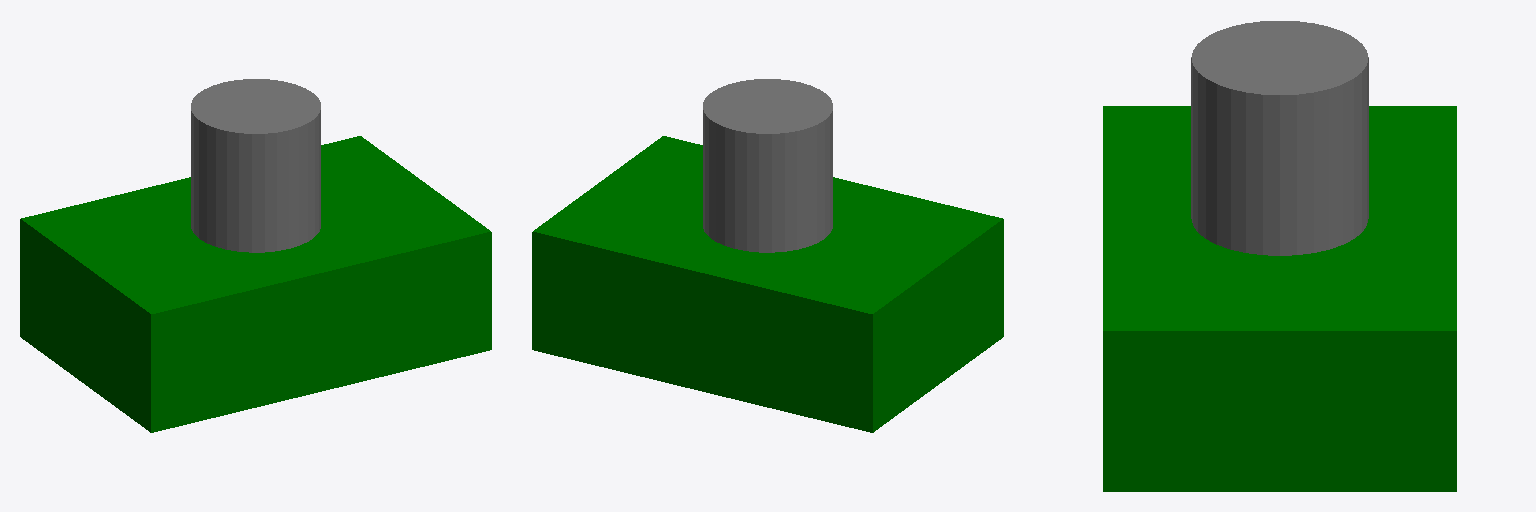
URDF robot description (base_test):
<?xml version="1.0"?>
<robot name="base_test">
    <material name="red">
        <color rgba="0.5 0 0 1"/>
    </material>
    <material name="green">
        <color rgba="0 0.5 0 1"/>
    </material>
    <material name="blue">
        <color rgba="0 0 0.5 1"/>
    </material>
    <material name="grey">
        <color rgba="0.5 0.5 0.5 1"/>
    </material>
 
    <link name="base_link">
        <visual>
            <geometry>
                <box size="0.6 0.4 0.2"/>  <!-- xyz -->
            </geometry>
            <origin xyz="0 0 0.1" rpy="0 0 0"/>
            <material name="green"/>
        </visual>
    </link>

    <link name="second_link">
        <visual>
            <geometry>
                <cylinder radius="0.1" length="0.2"/>
            </geometry>
            <origin xyz="0 0 0.1" rpy="0 0 0"/>
            <material name="grey"/>
        </visual>
    </link>

    <joint name="base_second_joint" type="revolute">
        <parent link="base_link"/>
        <child link="second_link"/>
        <origin xyz="0 0 0.2" rpy="0 0 0"/>
        <axis xyz="0 0 1"/>
        <limit lower="-1.57" upper="1.57" velocity="100" effort="100"/>
    </joint>
</robot>

--- Facts derived from the render (not from the file) ---
Views: 3 orthographic renders of the robot side by side, from view 1: azimuth 30°, elevation 25°; view 2: azimuth 150°, elevation 25°; view 3: azimuth 270°, elevation 25°.
Robot: base_test — 2 links, 1 joints (1 revolute); root link base_link; default pose: all joints at 0.
Links seen in each view (by area): view 1: base_link, second_link; view 2: base_link, second_link; view 3: base_link, second_link.
Boxes of the visible links, x1=… form: base_link: x1=20, y1=136, x2=491, y2=432; second_link: x1=191, y1=79, x2=320, y2=252; base_link: x1=532, y1=136, x2=1003, y2=432; second_link: x1=703, y1=79, x2=832, y2=252; base_link: x1=1103, y1=106, x2=1456, y2=491; second_link: x1=1191, y1=21, x2=1368, y2=255.
Bounding box of the posed robot: 0.6 × 0.4 × 0.4 m (x, y, z).
Geometry: primitives only (box / cylinder / sphere), no mesh files.